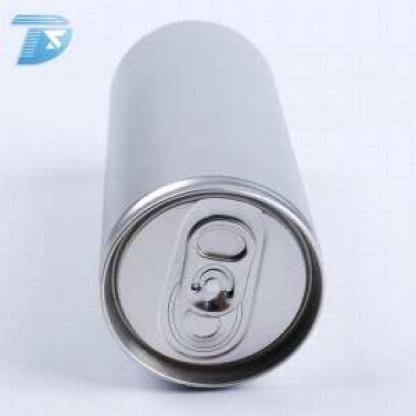Can: (82, 12, 356, 400)
